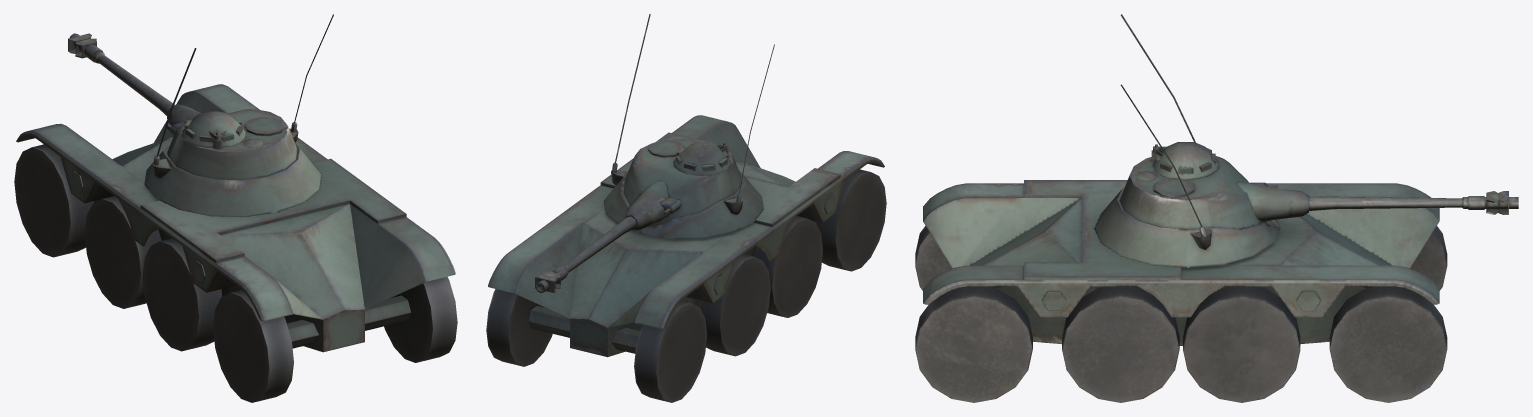
File: EBR-75.fbx
3 renders of one model, left to right at view 1: azimuth 30°, elevation 25°; view 2: azimuth 150°, elevation 25°; view 3: azimuth 270°, elevation 25°, orthographic. The views are drawn at different scales.
Parts seen in each view (by area): view 1: EBR-11 Hull, EBR-11 Turret; view 2: EBR-11 Hull, EBR-11 Turret; view 3: EBR-11 Hull, EBR-11 Turret.
Boxes of the visible parts, left/top/right/bottom form: EBR-11 Hull: left=14, top=84, right=457, bottom=402; EBR-11 Turret: left=68, top=14, right=333, bottom=216; EBR-11 Hull: left=486, top=115, right=886, bottom=402; EBR-11 Turret: left=535, top=14, right=774, bottom=293; EBR-11 Hull: left=915, top=180, right=1447, bottom=402; EBR-11 Turret: left=1094, top=14, right=1518, bottom=267.
Bounding box in the file's own units: 2.44 × 3.49 × 6.24.
